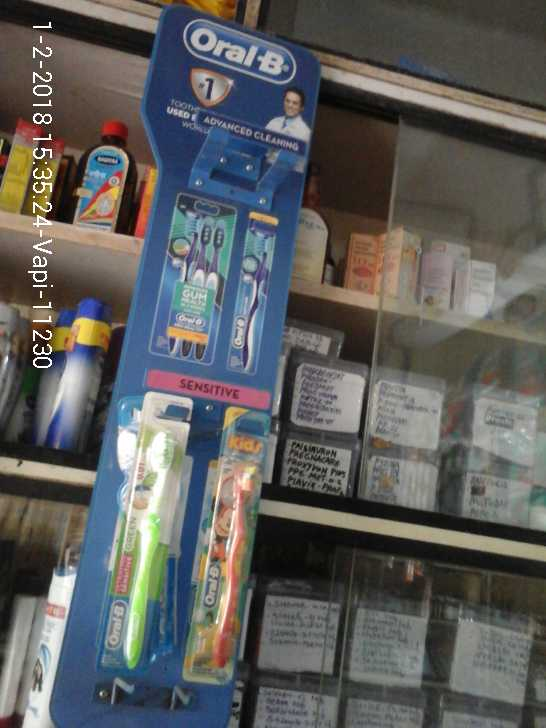oralb: (206, 445, 272, 681), (122, 413, 175, 684)
